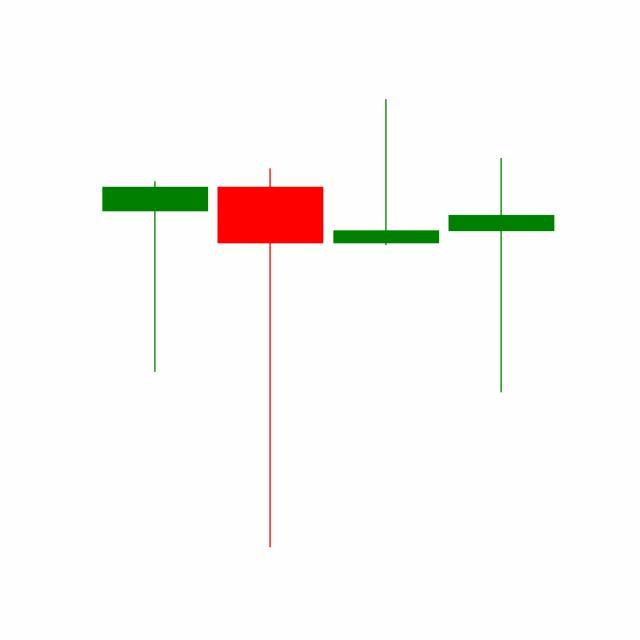Gravestone Doji: (329, 98, 445, 248)
